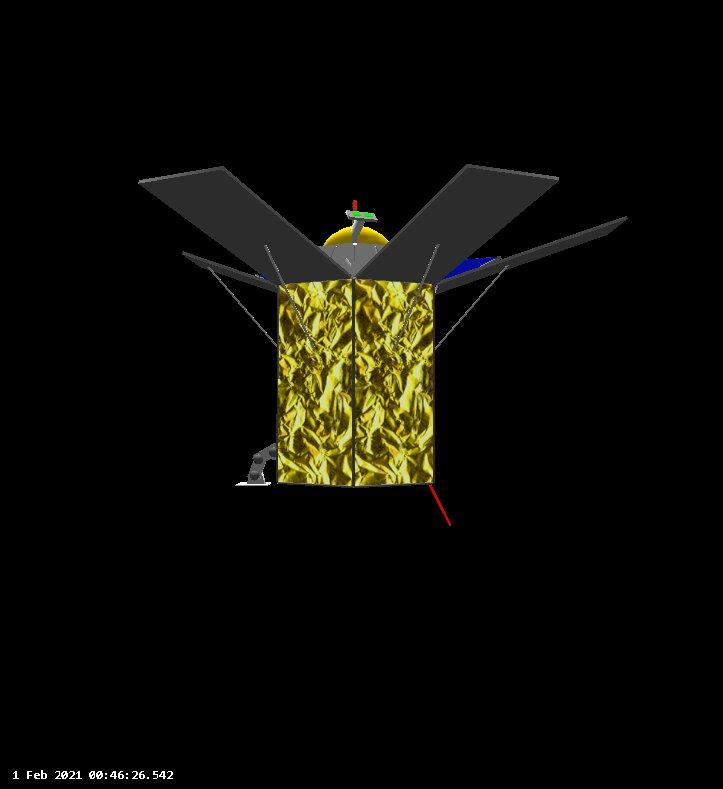antenna: (342, 195, 381, 247), (422, 476, 455, 530), (230, 463, 279, 495)
body: (270, 275, 438, 488)
solar: (133, 163, 354, 287), (353, 159, 563, 284), (430, 210, 630, 296), (177, 249, 287, 299)
